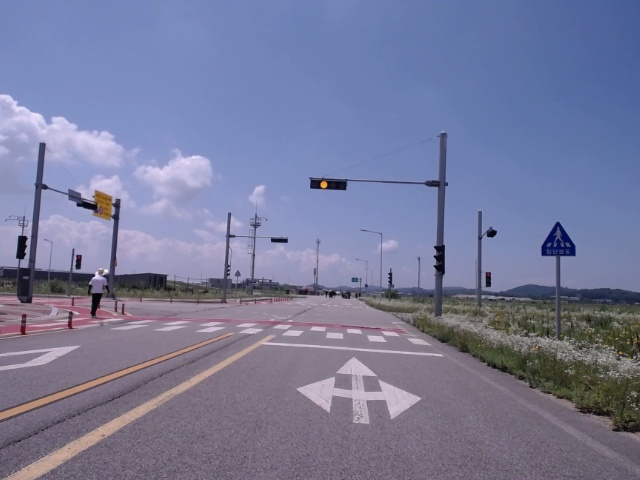orange_4: (311, 178, 347, 188)
